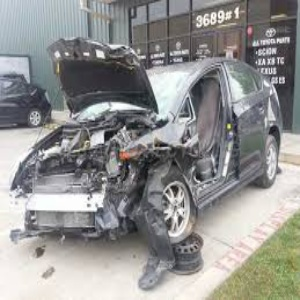bumper: (60, 172, 165, 239)
